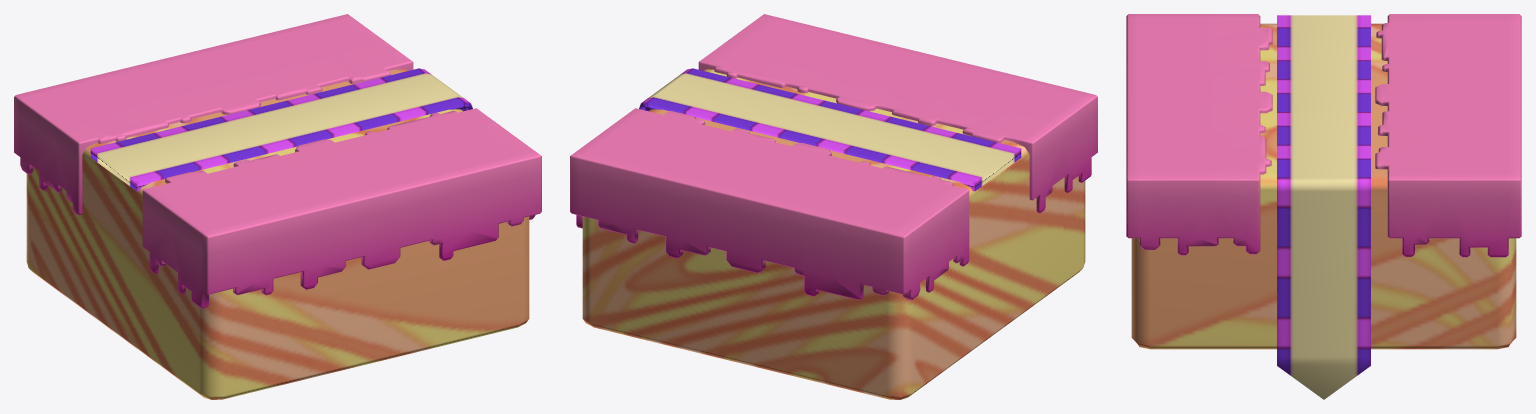
File: ScaffoldM_R.fbx
3 renders of one model, left to right at view 1: azimuth 30°, elevation 25°; view 2: azimuth 150°, elevation 25°; view 3: azimuth 270°, elevation 25°, orthographic.
Visible parts, largest first — view 1: asibaM_R1; view 2: asibaM_R1; view 3: asibaM_R1.
Part boxes in pixels (box(x1,y1,x2,y2)): asibaM_R1: box(14, 14, 541, 399); asibaM_R1: box(570, 14, 1097, 399); asibaM_R1: box(1126, 14, 1521, 399).
Size of the model in its own units: 1.04 by 1.03 by 0.6257.
1 material, 1 textured.
